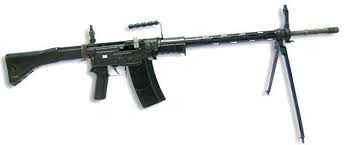Arma Real: (6, 5, 340, 141)
